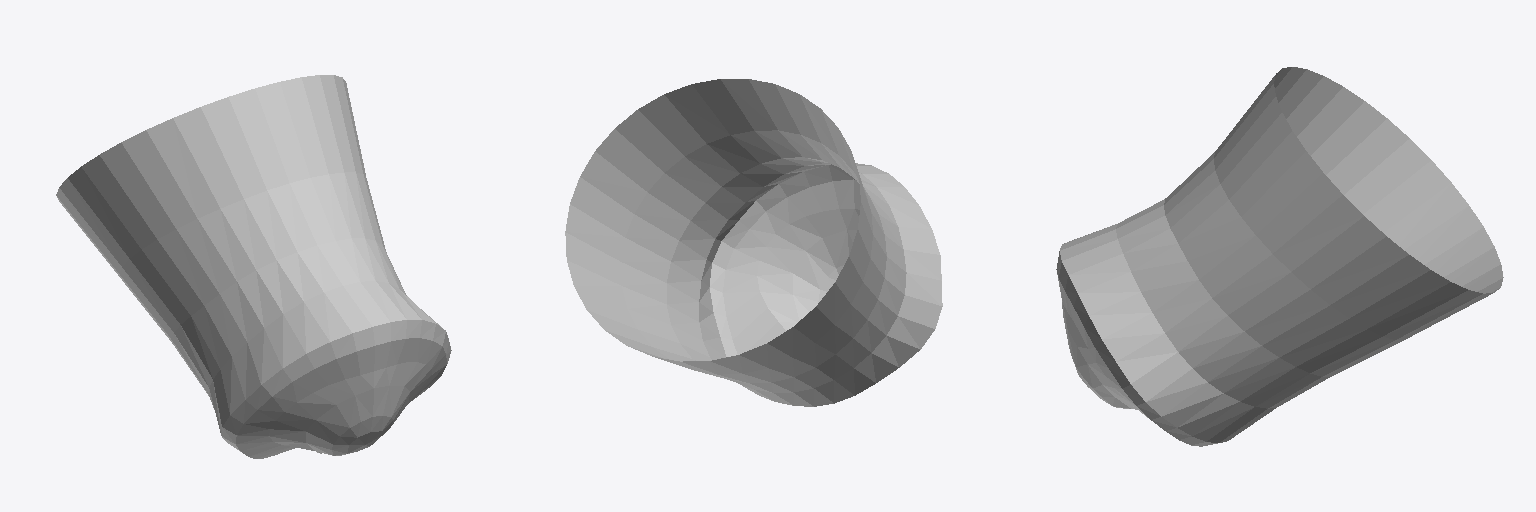
File: pone_Short_Shaft.obj
3 renders of one model, left to right at view 1: azimuth 30°, elevation 25°; view 2: azimuth 150°, elevation 25°; view 3: azimuth 270°, elevation 25°, orthographic.
Parts seen in each view (by area): view 1: dick_in_sheath.010_horsecock.012; view 2: dick_in_sheath.010_horsecock.012; view 3: dick_in_sheath.010_horsecock.012.
Boxes of the visible parts, <box> form: dick_in_sheath.010_horsecock.012: <box>56,75,451,458</box>; dick_in_sheath.010_horsecock.012: <box>565,79,942,406</box>; dick_in_sheath.010_horsecock.012: <box>1056,67,1503,446</box>.
Bounding box in the file's own units: 4.61 × 5.58 × 6.62.